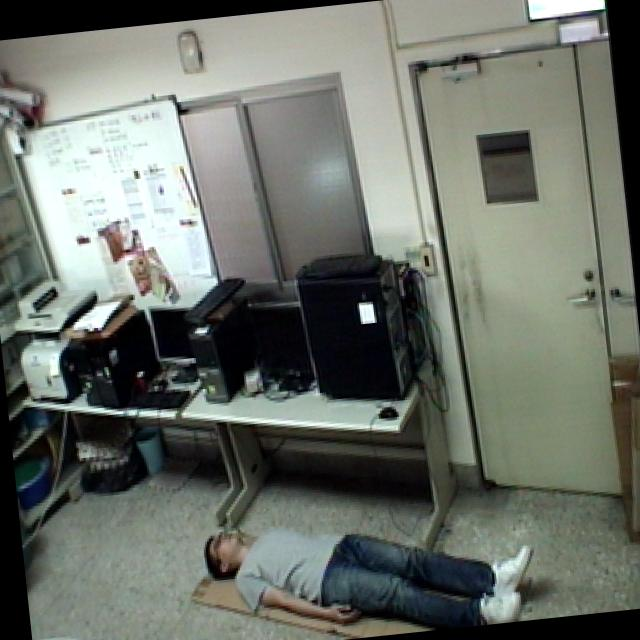lie: (195, 477, 550, 640)
